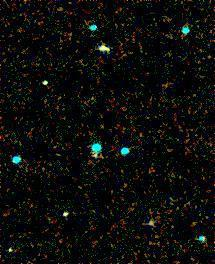star: (92, 32, 122, 62)
